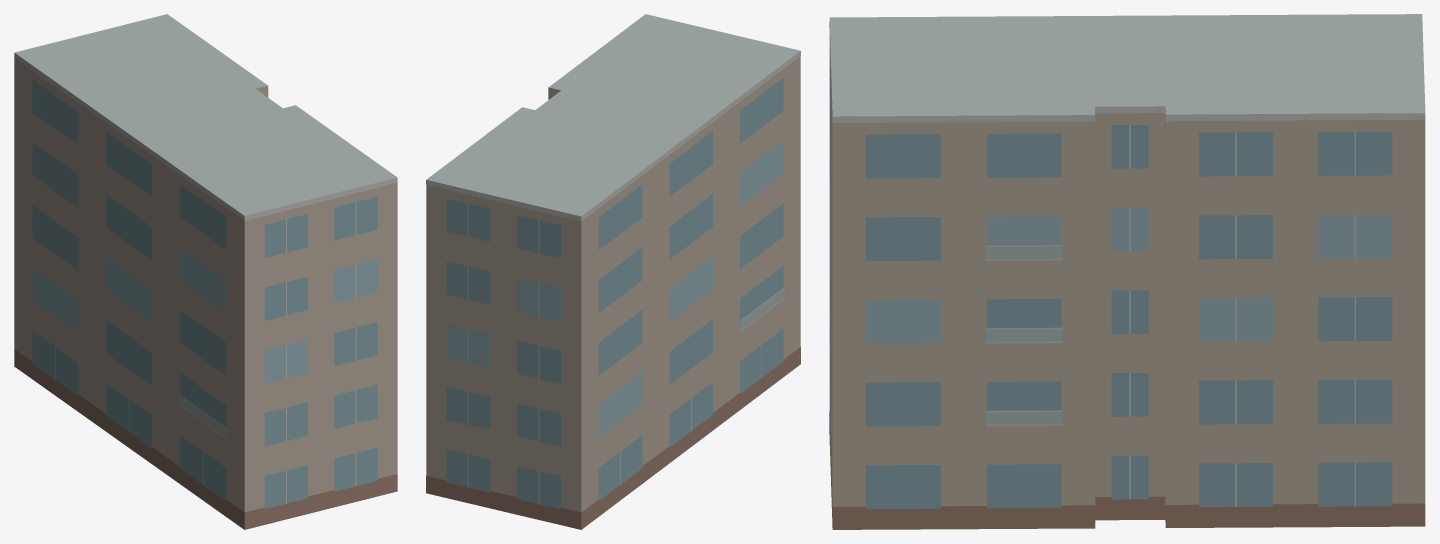
The model's file is survey-upis-32610854.glb.
The picture shows the model from 3 angles, left to right: view 1: azimuth 30°, elevation 25°; view 2: azimuth 150°, elevation 25°; view 3: azimuth 270°, elevation 25°; orthographic projection. The views are drawn at different scales.
Parts seen in each view (by area): view 1: survey-upis-32610854.tmp; view 2: survey-upis-32610854.tmp; view 3: survey-upis-32610854.tmp.
Boxes of the visible parts, <box> form: survey-upis-32610854.tmp: <box>14,14,397,529</box>; survey-upis-32610854.tmp: <box>426,14,800,529</box>; survey-upis-32610854.tmp: <box>829,14,1425,529</box>.
Size of the model in its own units: 8.12 by 15.25 by 19.94.
